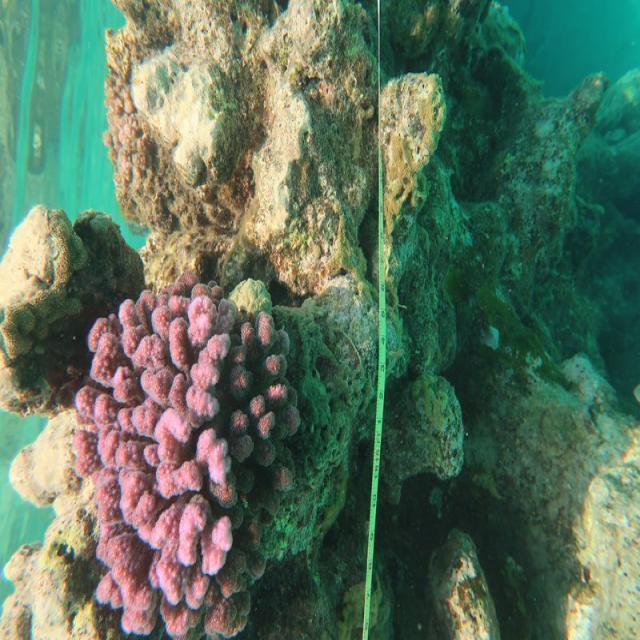Healthy Coral: (73, 272, 302, 640)
